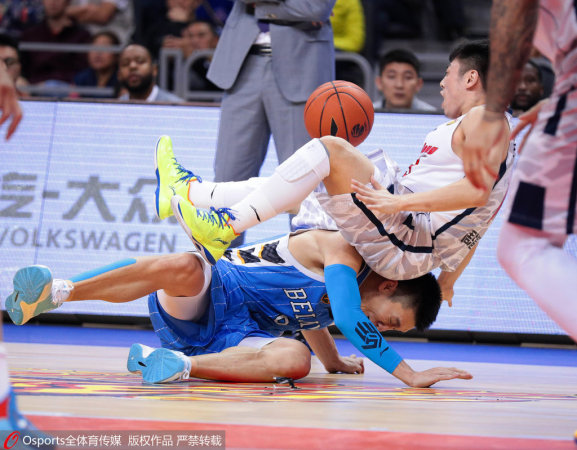fall: (44, 217, 472, 386)
